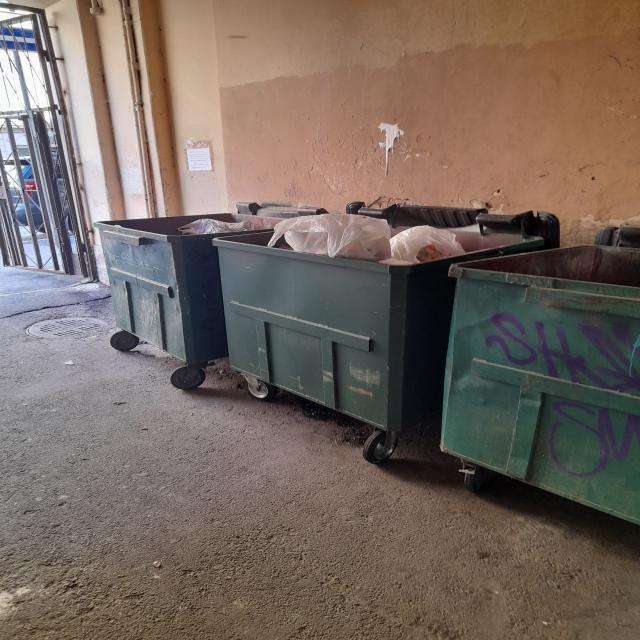bin: (438, 238, 640, 527), (210, 231, 442, 434), (92, 213, 224, 365)
plastic: (179, 217, 467, 267)
